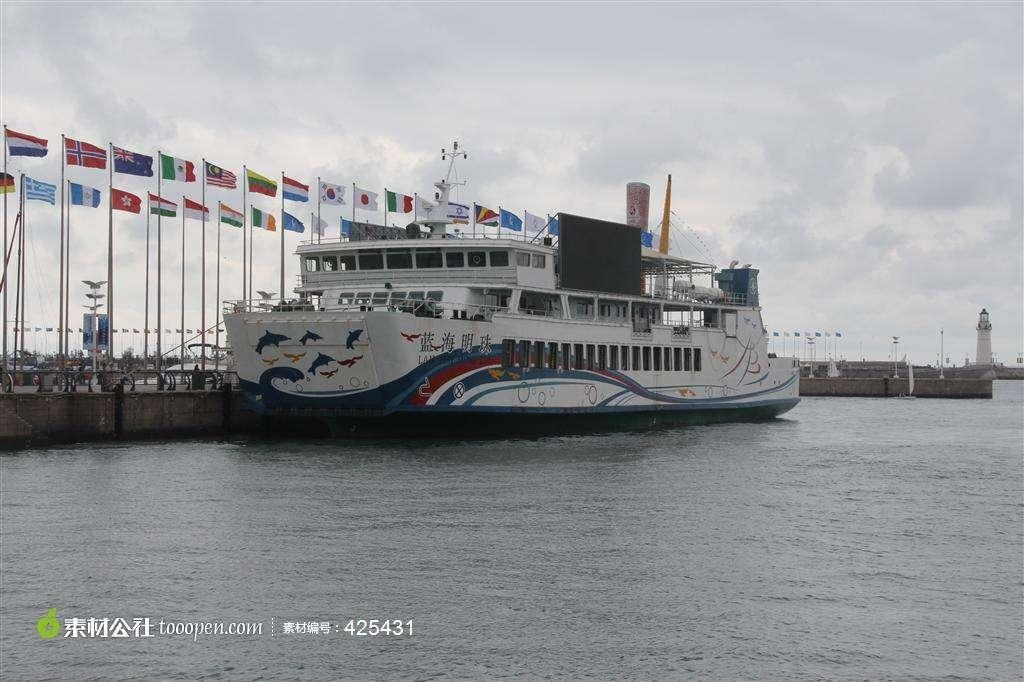youlun: (219, 207, 805, 439)
